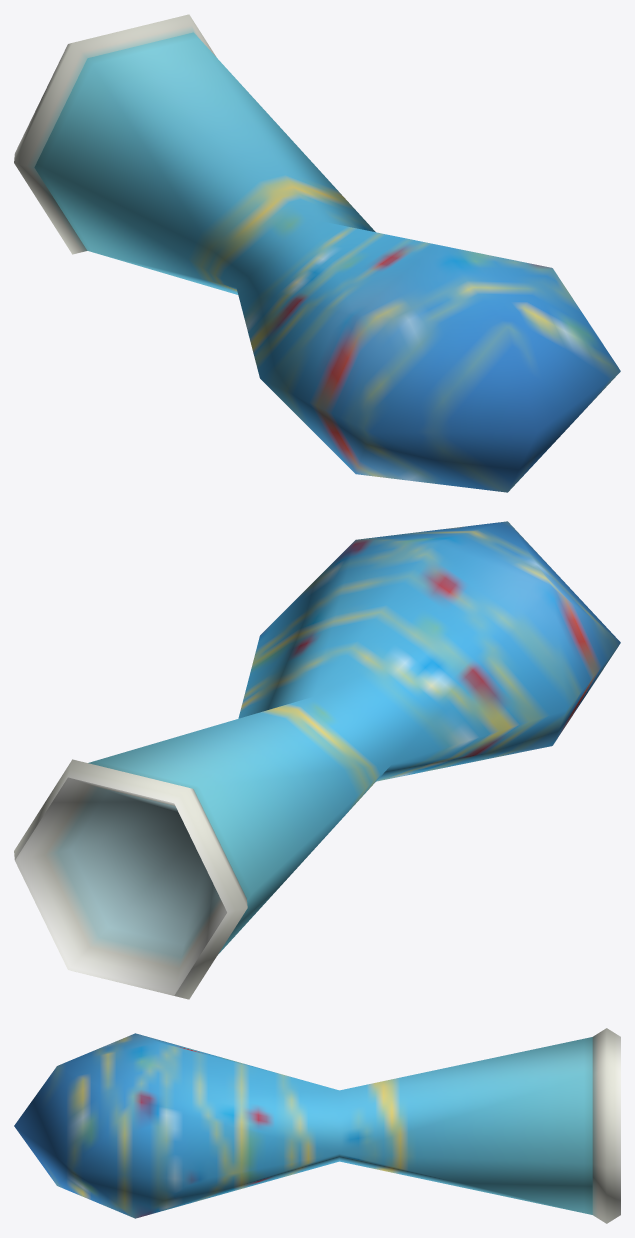
The model's file is jsf_Balloon_08.fbx.
3 views of the same model, one above another, from view 1: azimuth 30°, elevation 25°; view 2: azimuth 150°, elevation 25°; view 3: azimuth 270°, elevation 25° (orthographic). The views are drawn at different scales.
Visible parts, largest first — view 1: jsf_Balloon_08; view 2: jsf_Balloon_08; view 3: jsf_Balloon_08.
Boxes of the visible parts, x1,y1,x2,y2 form: jsf_Balloon_08: (14, 14, 620, 492); jsf_Balloon_08: (14, 521, 620, 999); jsf_Balloon_08: (14, 1028, 620, 1223).
Bounding box in the file's own units: 1.44 × 1.02 × 3.39.
